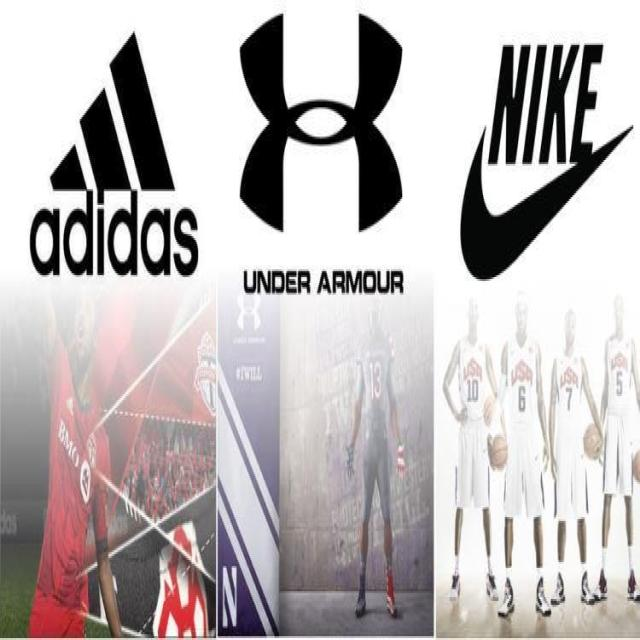nike: (450, 32, 631, 296)
